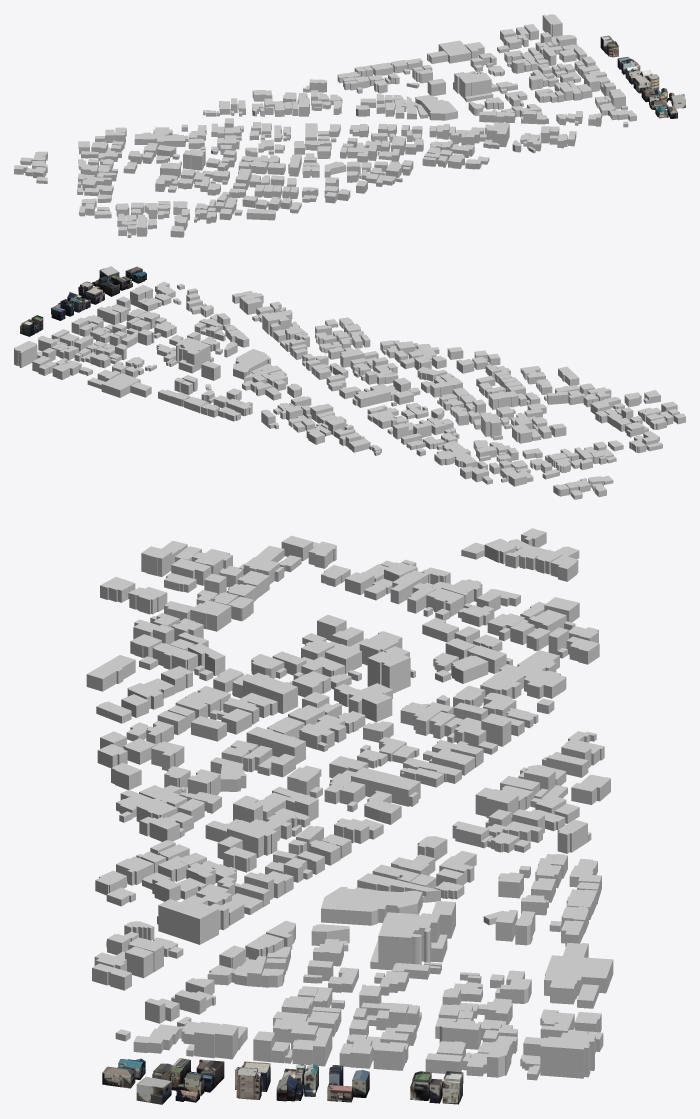
The model's file is 2023-lod3-station-6--1-packed.glb.
3 views of the same model, one above another, from view 1: azimuth 30°, elevation 25°; view 2: azimuth 150°, elevation 25°; view 3: azimuth 270°, elevation 25° (orthographic). The views are drawn at different scales.
Size of the model in its own units: 611 by 18.54 by 240.
2 materials, 1 textured.
